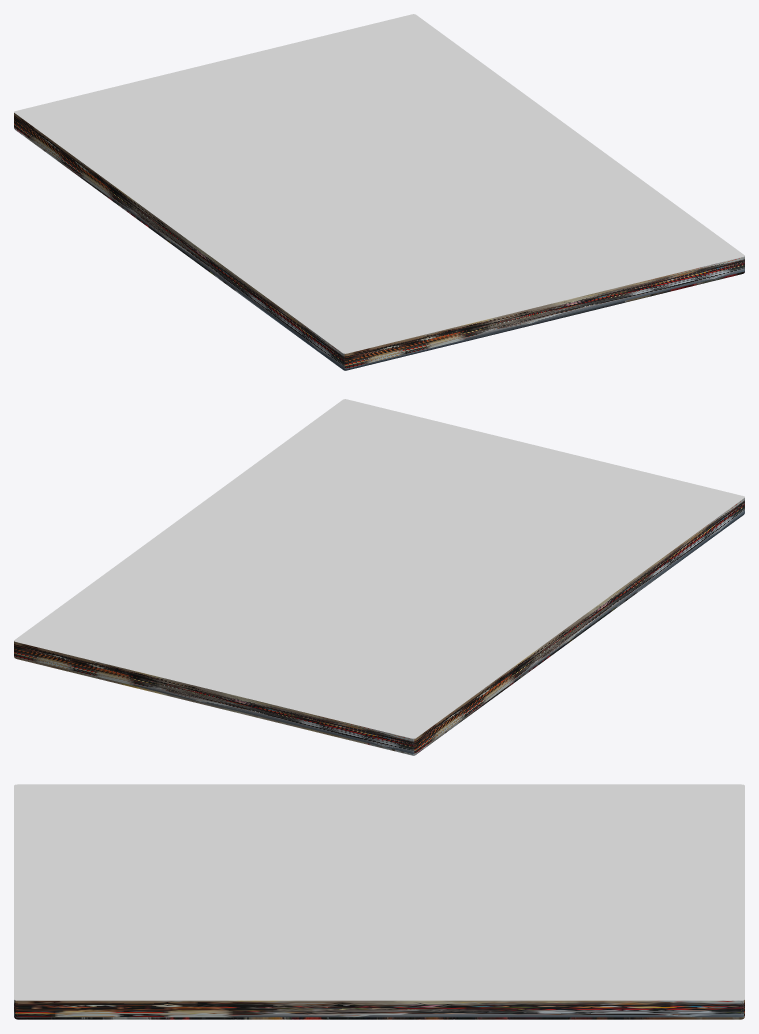
Rendered from Picture 3.obj.
3 views of the same model, one above another, from view 1: azimuth 30°, elevation 25°; view 2: azimuth 150°, elevation 25°; view 3: azimuth 270°, elevation 25° (orthographic). The views are drawn at different scales.
Parts seen in each view (by area): view 1: Box003; view 2: Box003; view 3: Box003.
Boxes of the visible parts, left/top/right/bottom form: Box003: left=14, top=14, right=744, bottom=370; Box003: left=14, top=399, right=744, bottom=755; Box003: left=14, top=784, right=744, bottom=1019.
Size of the model in its own units: 27.56 by 1.18 by 39.37.
